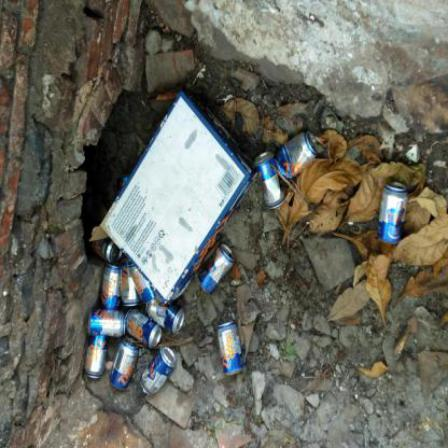Can: (276, 131, 320, 181), (199, 245, 236, 297), (378, 183, 409, 245), (255, 153, 286, 209), (143, 348, 178, 397), (217, 322, 245, 377), (148, 295, 186, 335), (127, 309, 164, 350), (111, 339, 140, 391), (130, 265, 158, 305), (89, 311, 127, 339), (85, 337, 110, 379), (102, 264, 123, 311), (122, 259, 142, 307), (96, 240, 123, 264)
Carton: (91, 92, 260, 305)
Pop tab: (311, 138, 318, 148), (129, 340, 134, 346), (226, 251, 231, 255), (277, 207, 281, 210)
